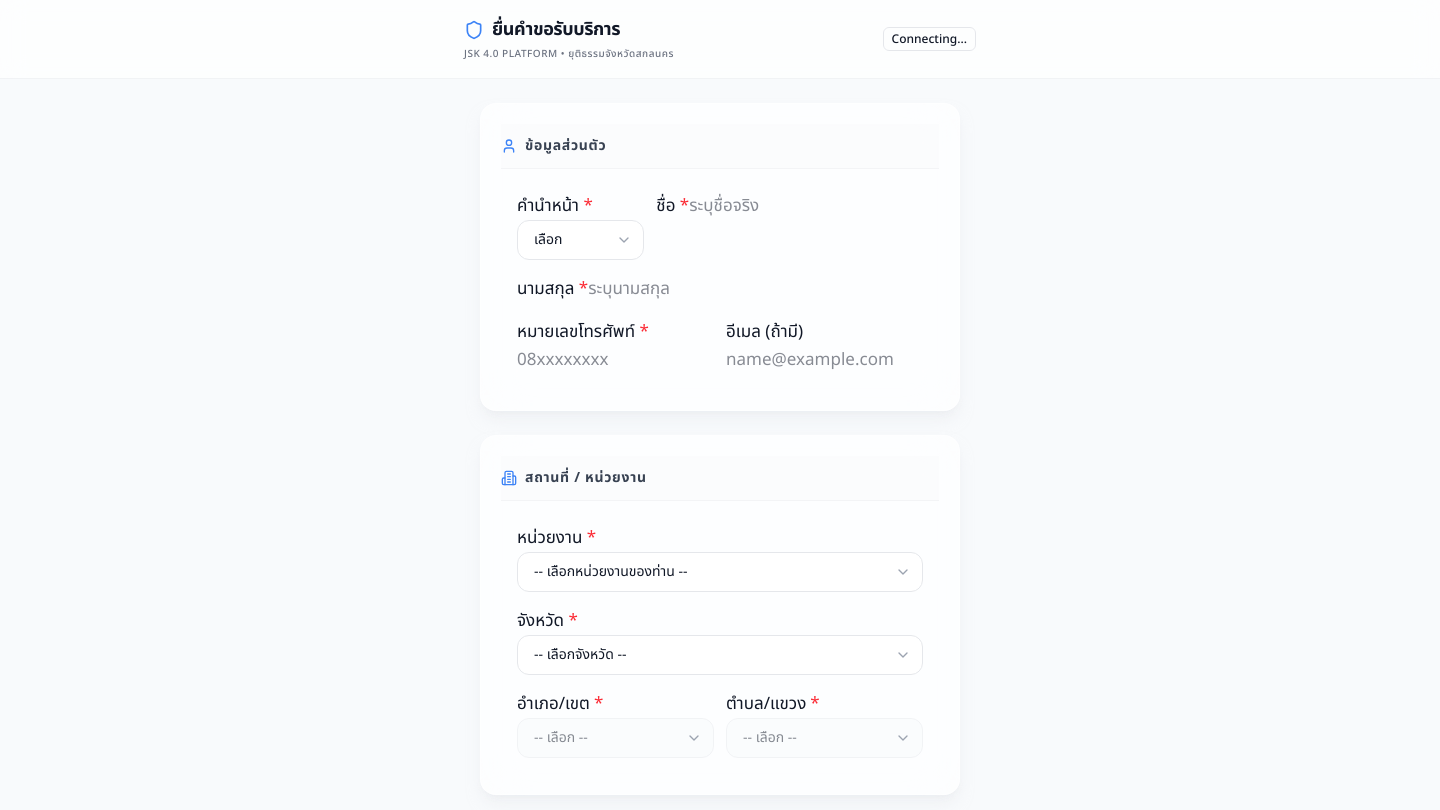
LIFF service-request-single validation (R3-M28-twin) › cancel asks before leaving when the form is dirty (leave-confirm)
The width and height of the screenshot is (1440, 810).
Step 1. Type "สมชาย" into the field named "firstname" → (789, 207), box x1=689 y1=193 x2=888 y2=220
(page scrolled)
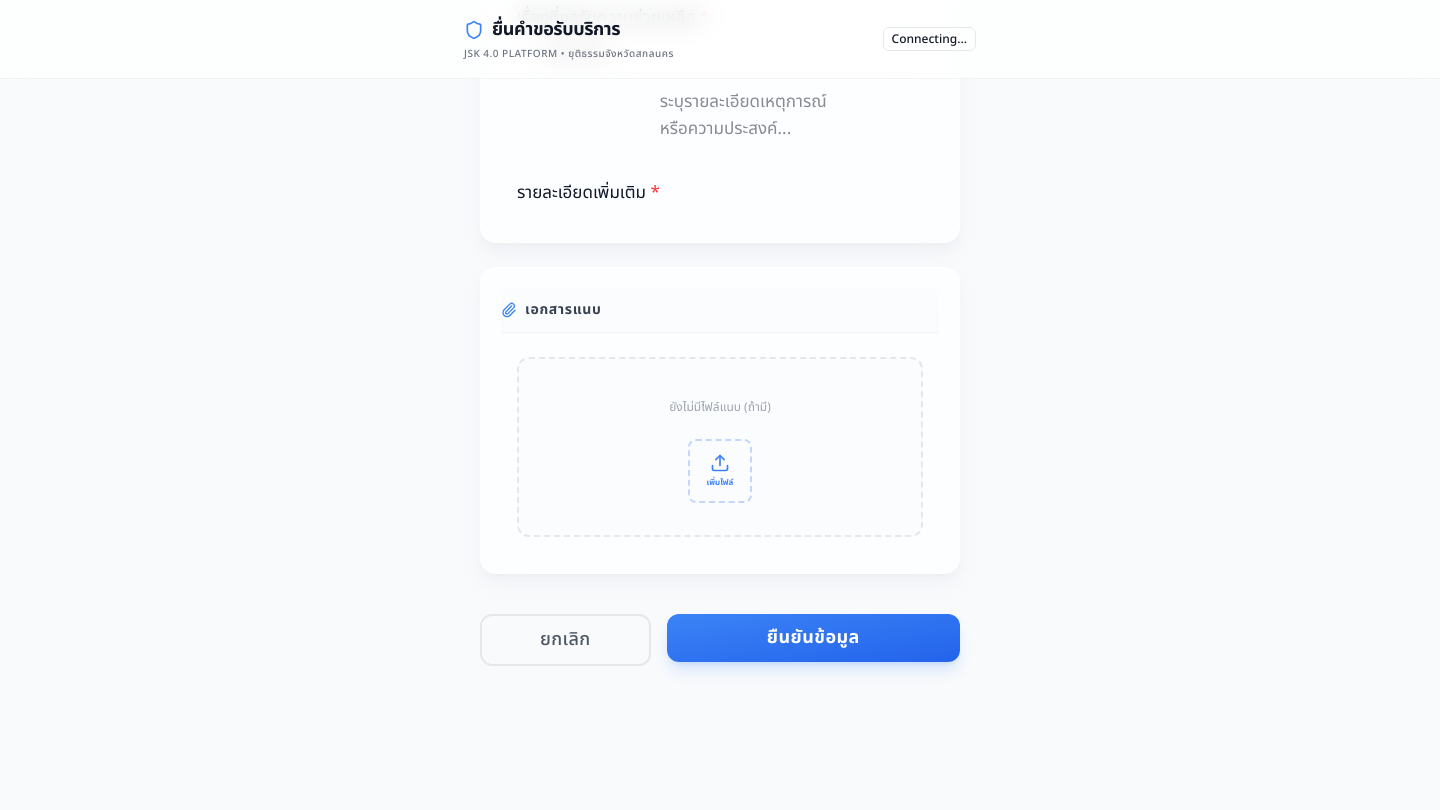
Step 2. Click the button "ยกเลิก" → (565, 640), box x1=480 y1=614 x2=651 y2=666
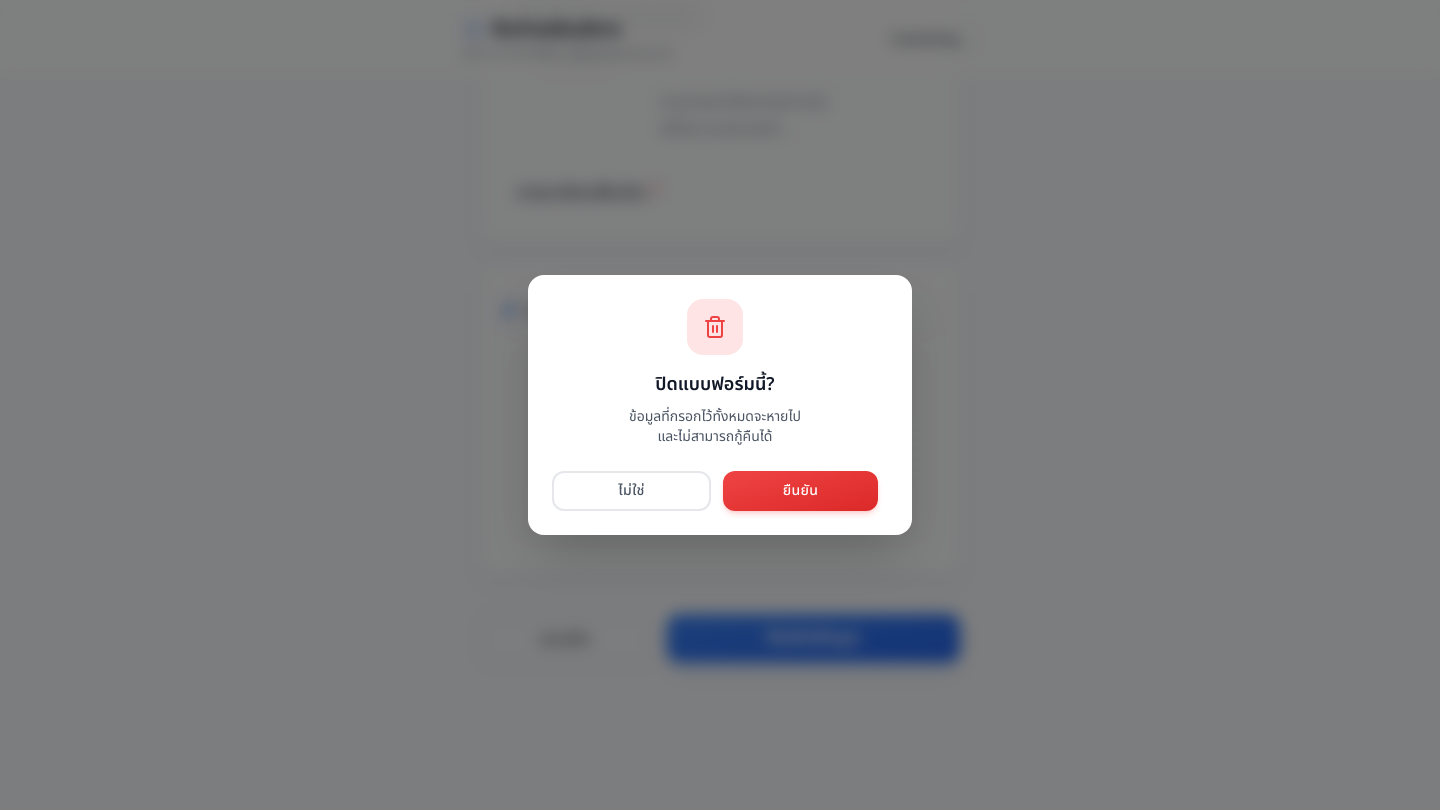
Expected: the heading "ปิดแบบฟอร์มนี้?" is shown, x1=655 y1=371 x2=775 y2=399
Expected: the dialog is shown, x1=528 y1=275 x2=912 y2=535
Step 3. Click the button "ยืนยัน" → (800, 491), box x1=723 y1=471 x2=878 y2=511
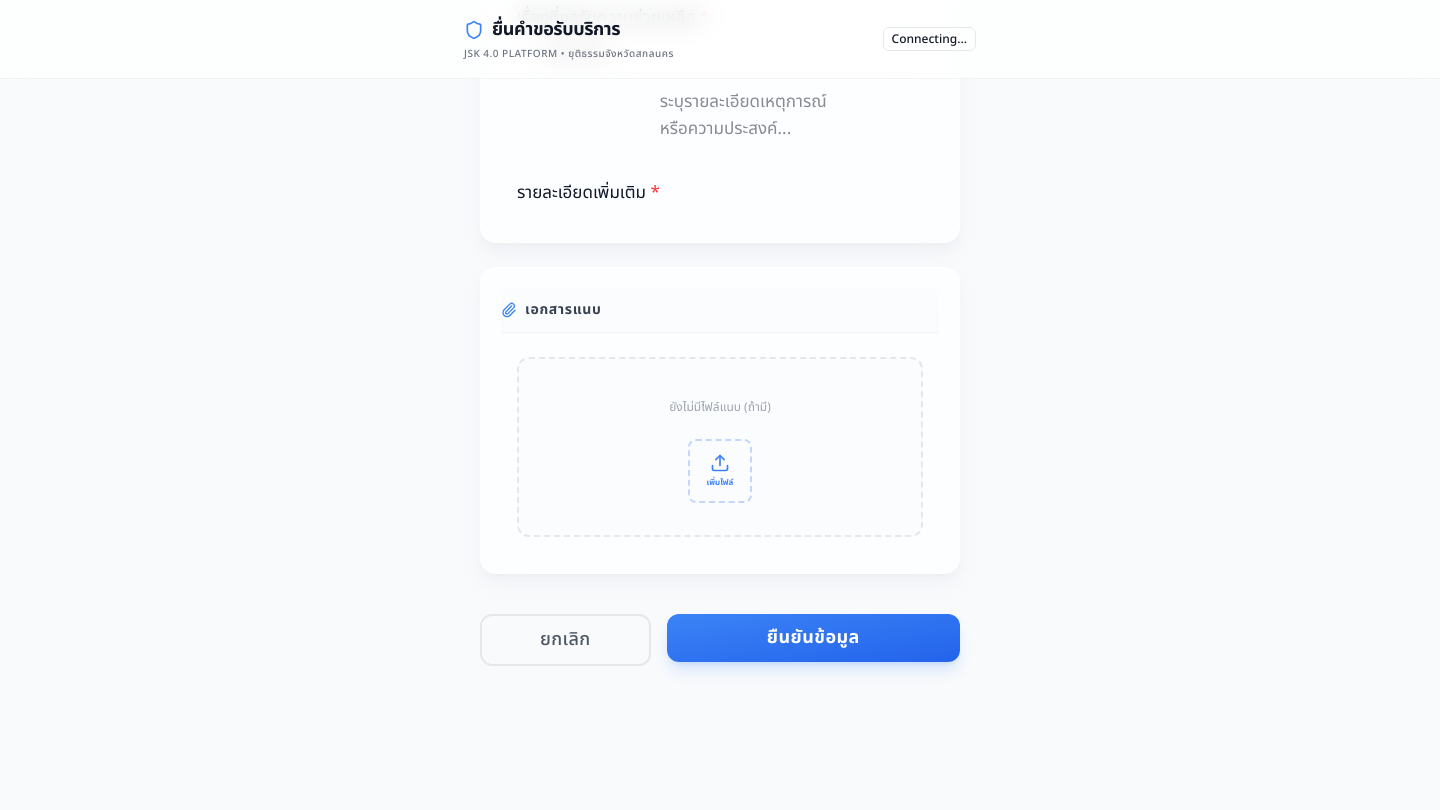
Expected: the heading "ปิดแบบฟอร์มนี้?" is gone
